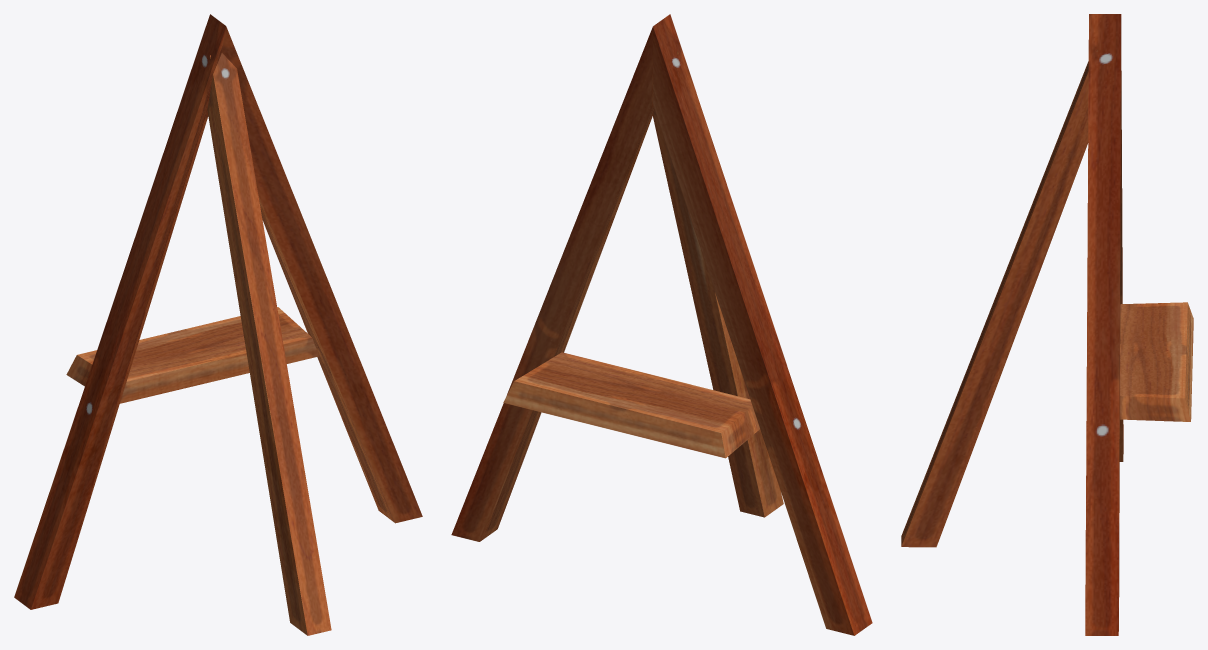
The model's file is static3Leg.glb.
3 views of the same model, side by side, from view 1: azimuth 30°, elevation 25°; view 2: azimuth 150°, elevation 25°; view 3: azimuth 270°, elevation 25° (orthographic). The views are drawn at different scales.
Visible parts, largest first — view 1: Khung_3_chan.001; view 2: Khung_3_chan.001; view 3: Khung_3_chan.001.
Part boxes in pixels (<box>): Khung_3_chan.001: <box>14,14,422,635</box>; Khung_3_chan.001: <box>451,14,872,635</box>; Khung_3_chan.001: <box>901,14,1193,635</box>.
Bounding box in the file's own units: 2.11 × 2.77 × 1.39.
Materials: 1 (1 with a texture image).
